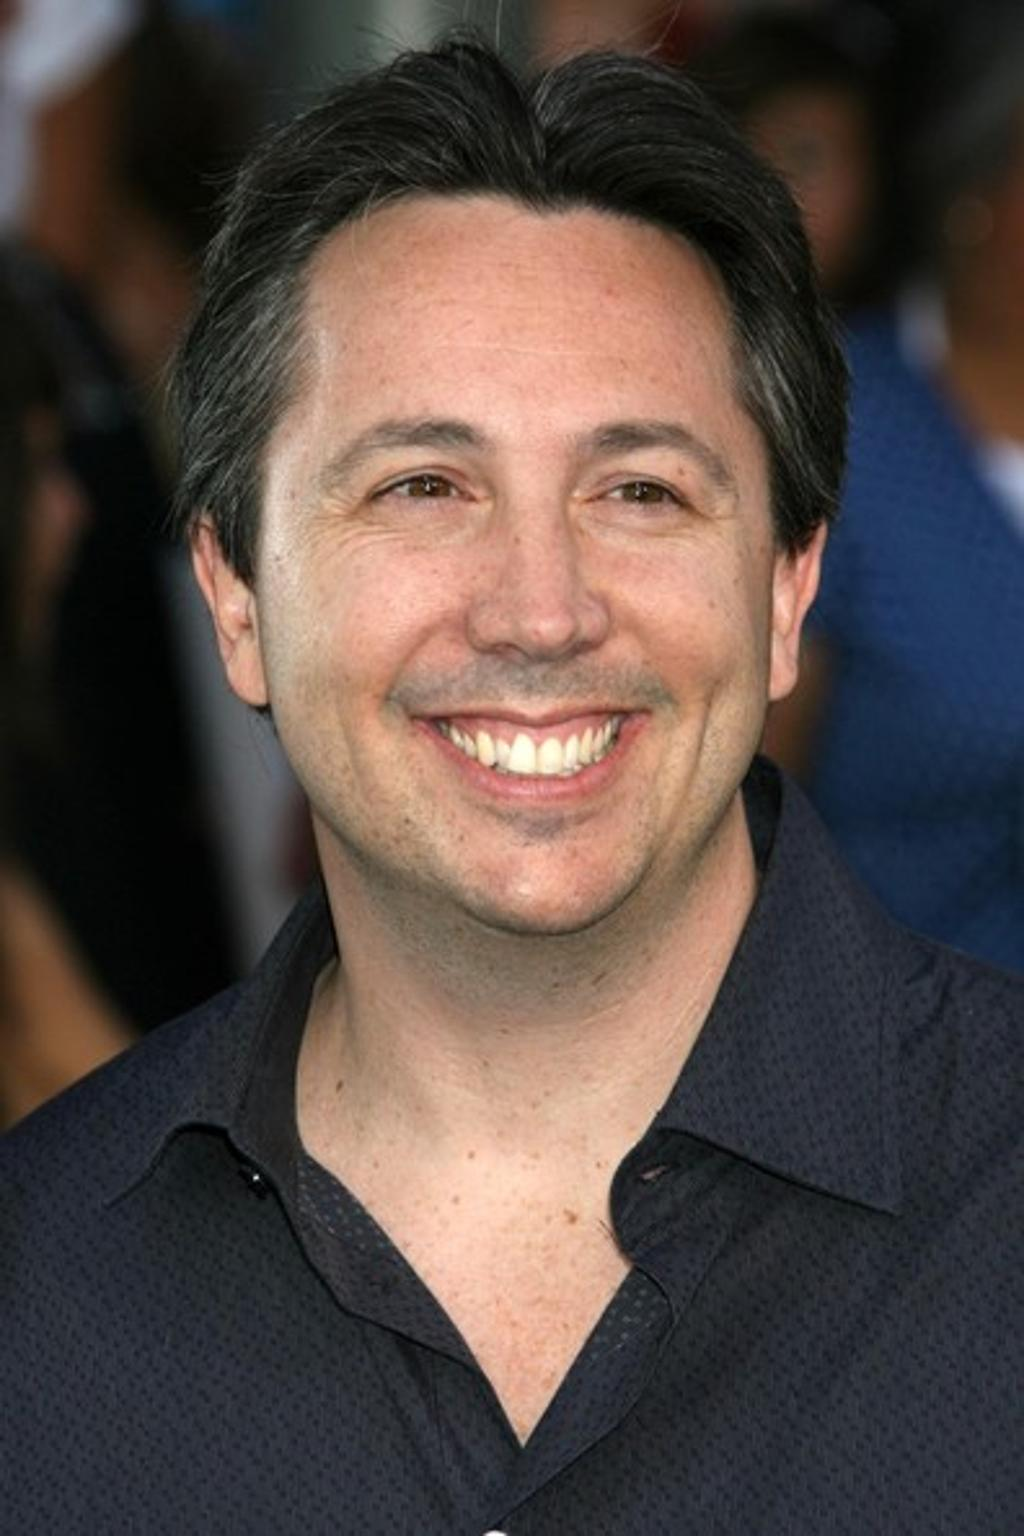face: (285, 201, 759, 919)
